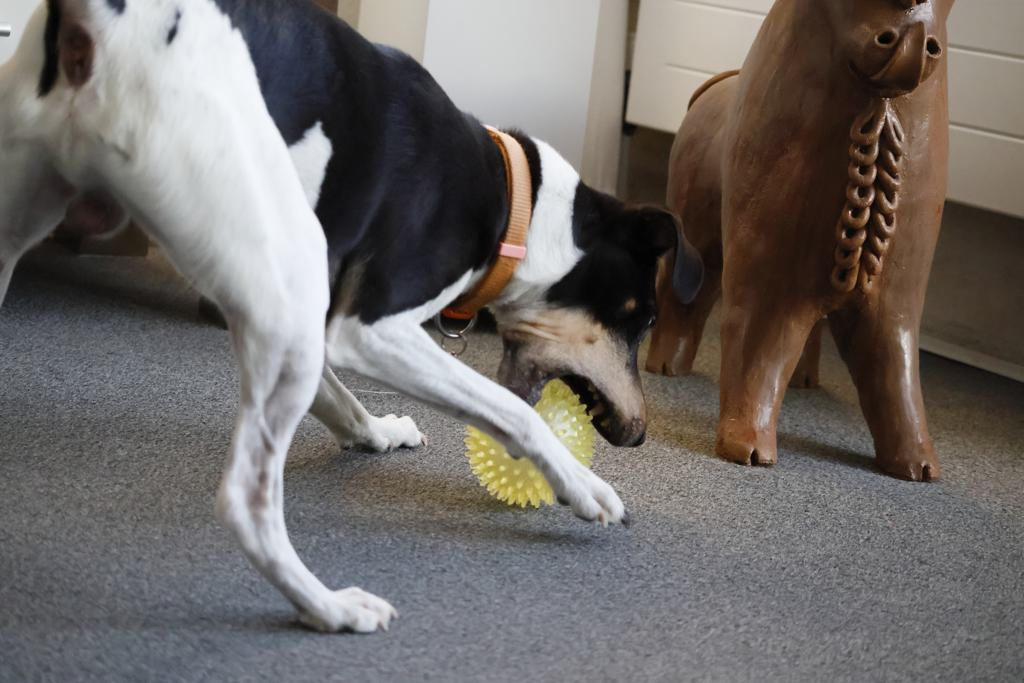Cattle: (628, 0, 983, 495)
Dog: (0, 0, 711, 647)
